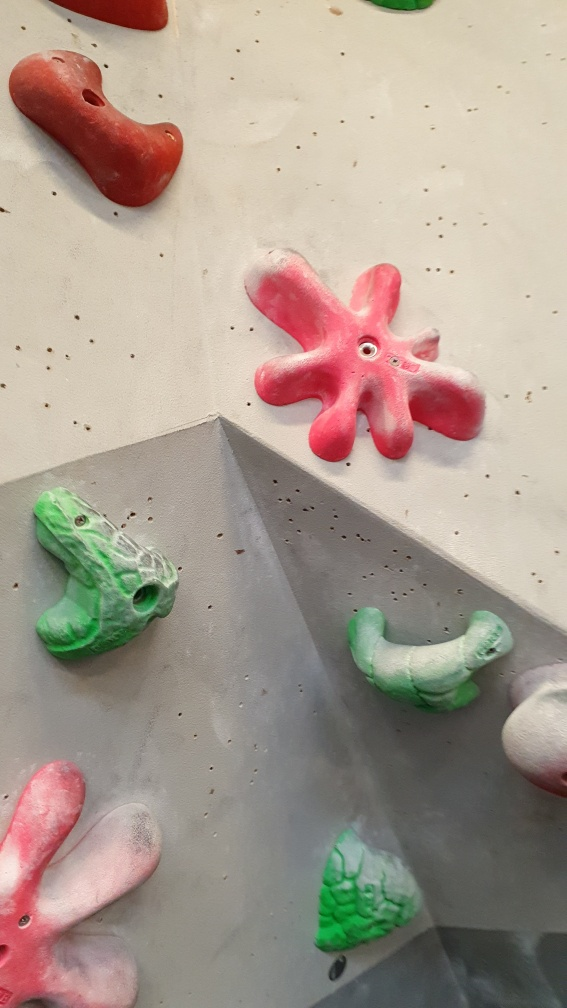Hand Start: (323, 948, 351, 988)
Jug: (347, 596, 524, 719), (309, 822, 426, 955)
Octopus Pinch: (244, 244, 493, 470), (1, 748, 169, 1007)
Sloper: (497, 669, 567, 798)
